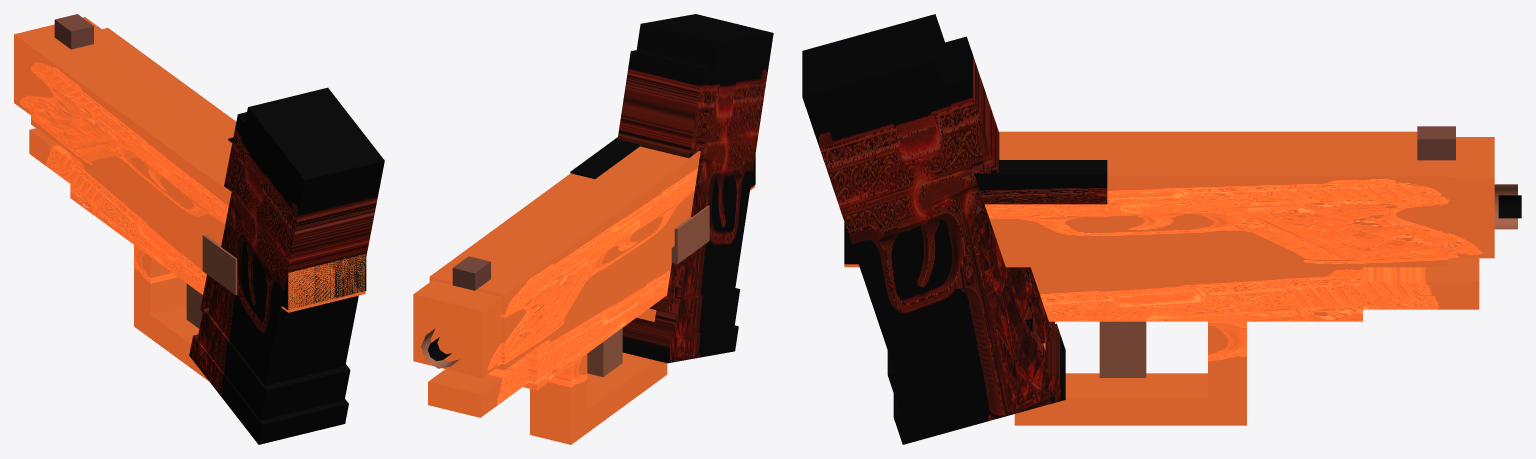
The model's file is pistol_red.glb.
3 renders of one model, left to right at view 1: azimuth 30°, elevation 25°; view 2: azimuth 150°, elevation 25°; view 3: azimuth 270°, elevation 25°, orthographic. The views are drawn at different scales.
Parts seen in each view (by area): view 1: PistolMesh; view 2: PistolMesh; view 3: PistolMesh.
Part boxes in pixels (box(x1,y1,x2,y2)): PistolMesh: box(14, 14, 384, 444); PistolMesh: box(413, 14, 773, 444); PistolMesh: box(802, 14, 1521, 444).
Bounding box in the file's own units: 0.0302 × 0.1092 × 0.1858.
Materials: 6 (4 with a texture image).
